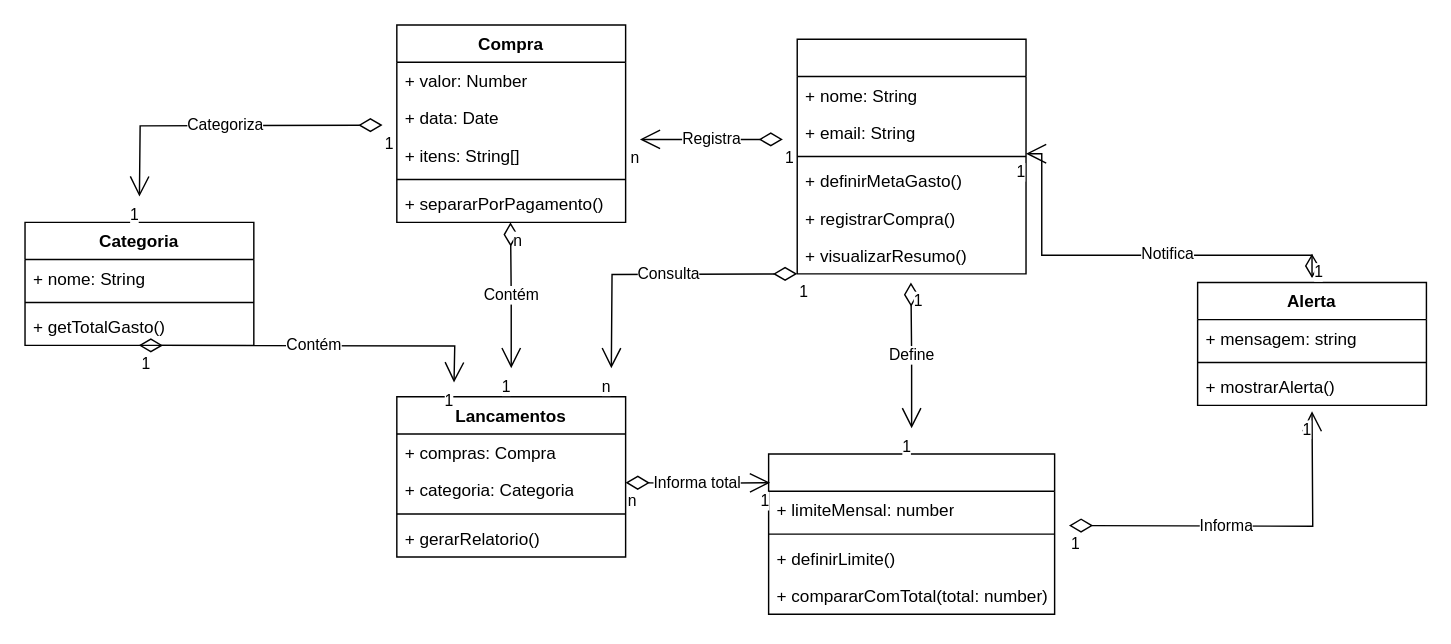
Image size: 1451x644. Some labels were removed from this diagram. Here are the shapes that lost their labels. From the top down, the box of each, then its label:
(796, 38, 1026, 274): Usuario
(767, 453, 1055, 614): MetaGasto
